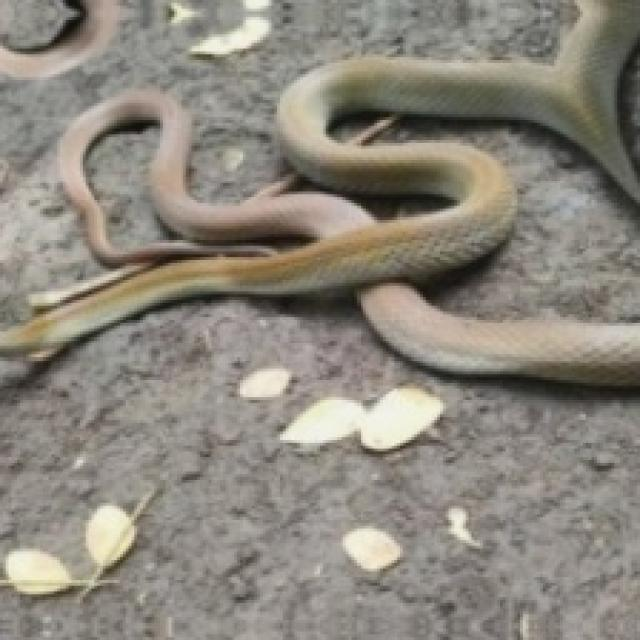reddish rat snake: (0, 0, 637, 351), (357, 283, 637, 383)
